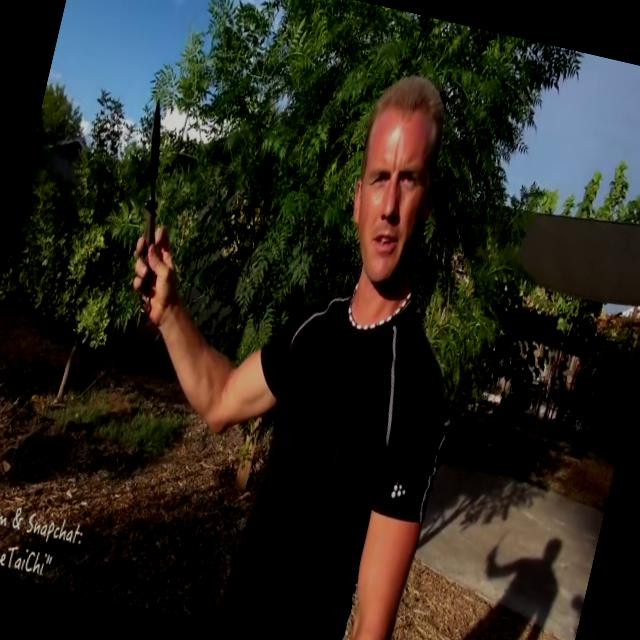knife: (104, 85, 200, 312)
